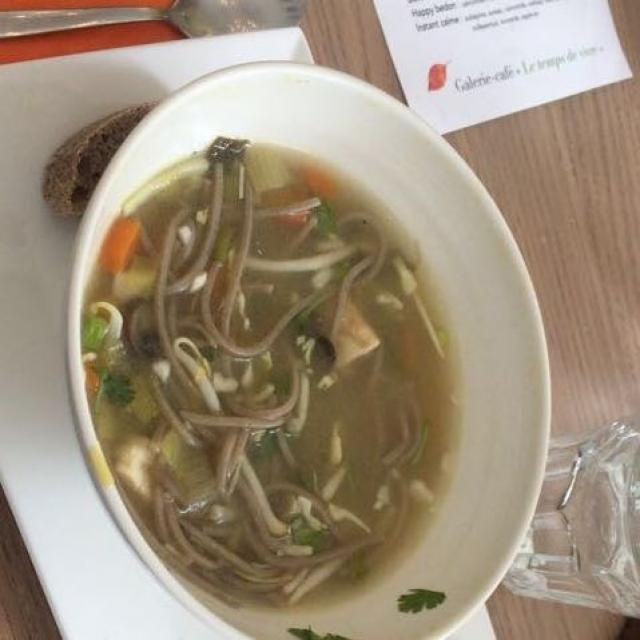bread: (47, 104, 153, 224)
soup: (150, 176, 403, 569)
tofu: (119, 294, 375, 502)
